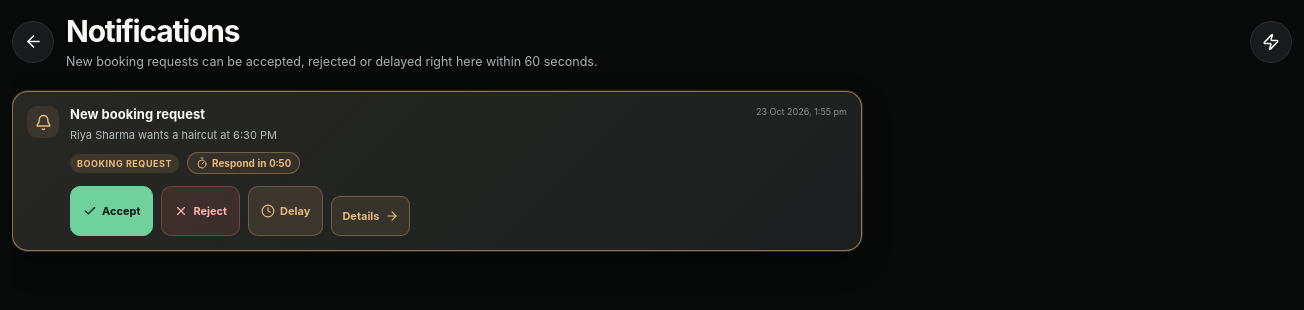
it: salon Notifications tab — booking request actions › rejects and marks the card rejected
Step 1. Click the button "Reject" → (201, 211), box [161,186,240,236]
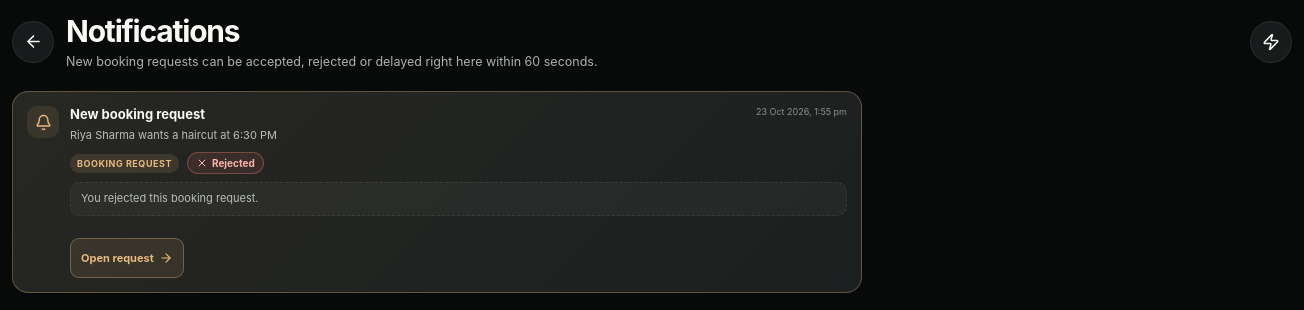
Expected: the text "You rejected this booking request" is shown, [81,191,258,205]
